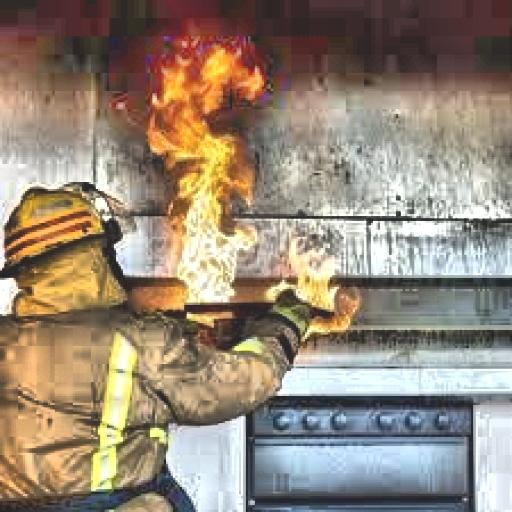fire: (114, 36, 289, 312)
